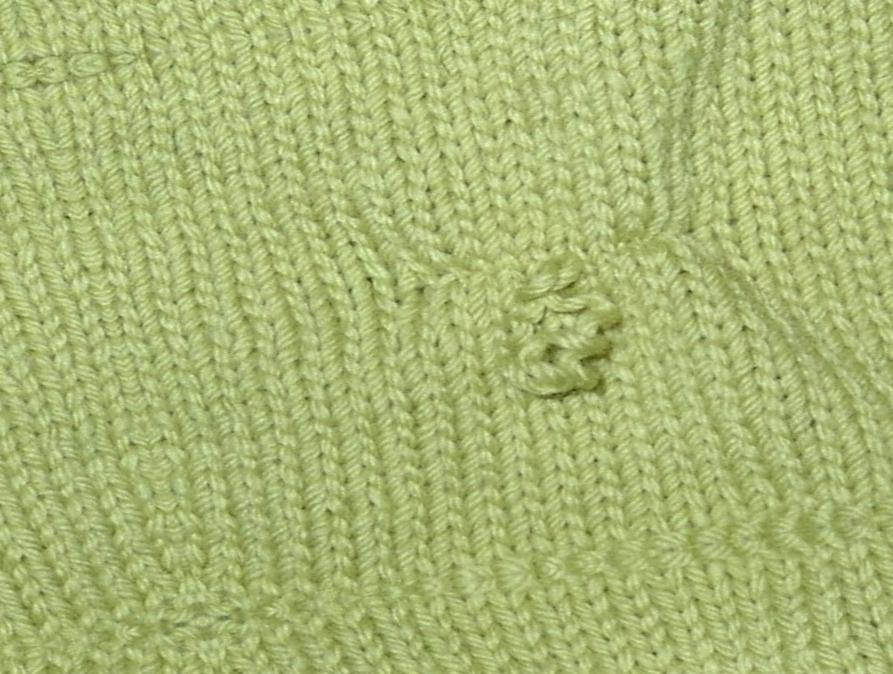knot: (509, 258, 621, 411)
